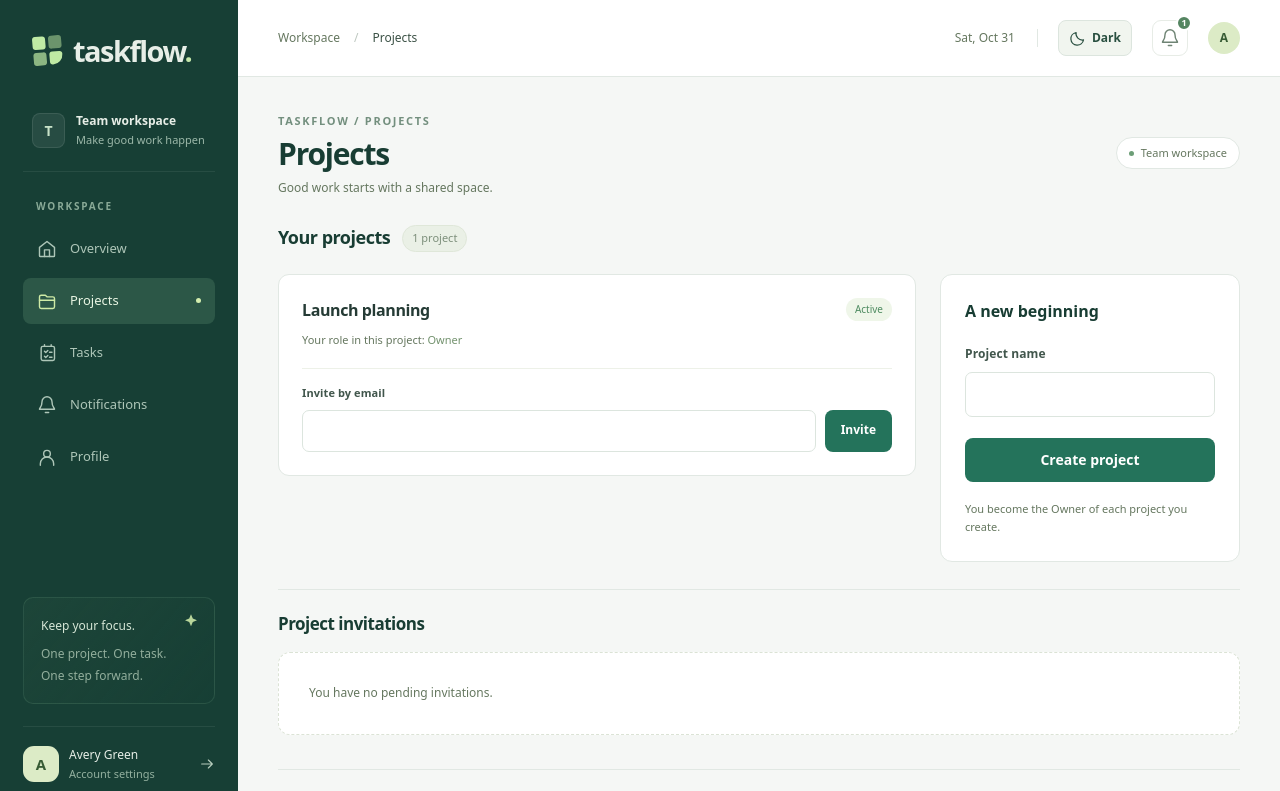
Test: UI-only workspace navigation › preserves Owner invitation sending
Type "teammate@example.test" into the field labelled "Invite by email".
click(559, 430); type("teammate@example.test")  # box 302,410 -> 816,452
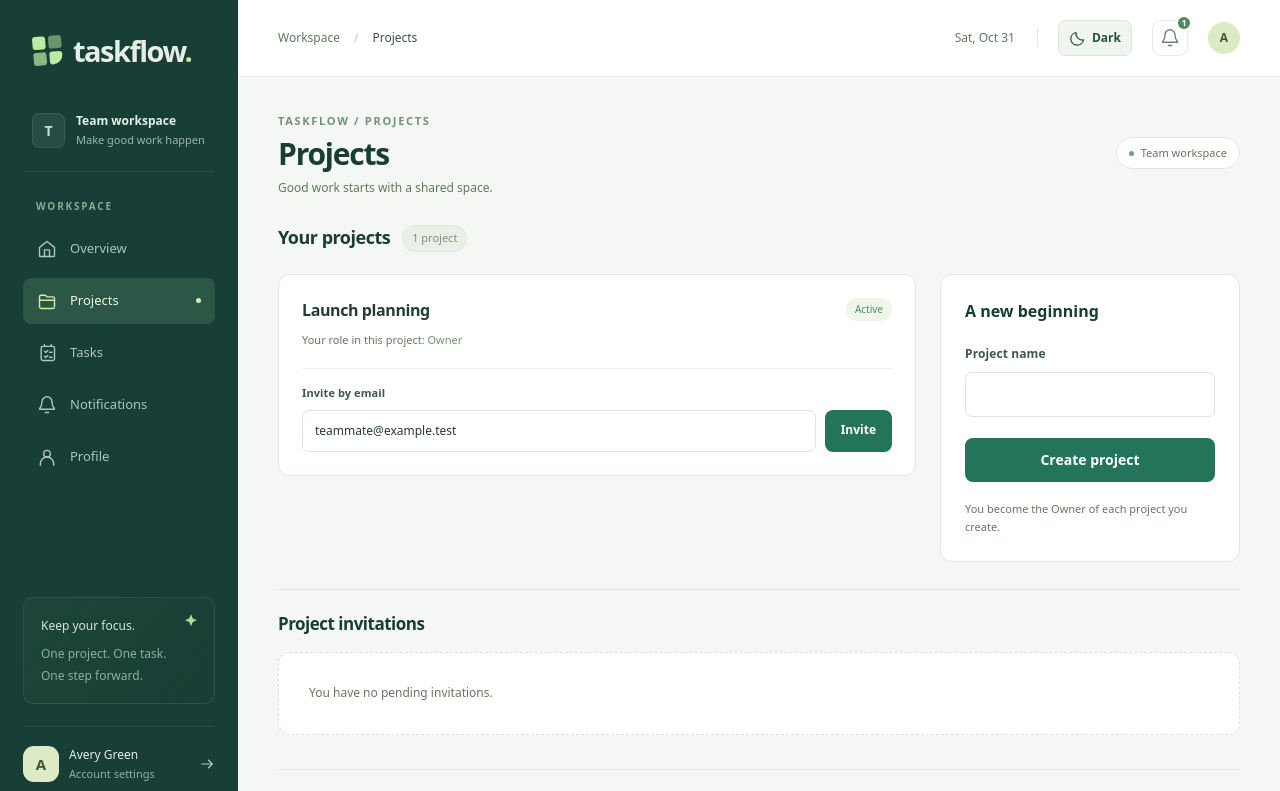
Click the button "Invite".
click(858, 430)  # box 825,410 -> 892,452
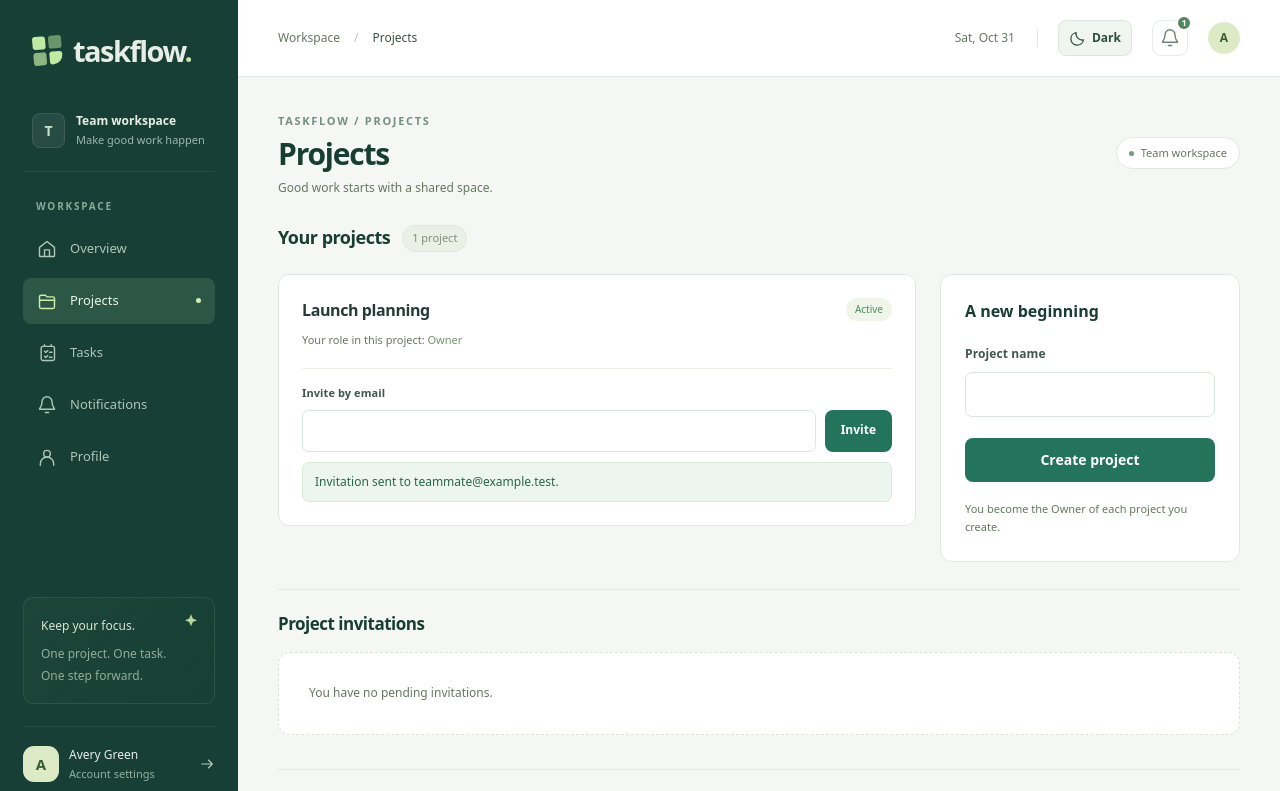
Result: the text "Invitation sent to teammate@example.test." is shown at 302,462 -> 892,502
